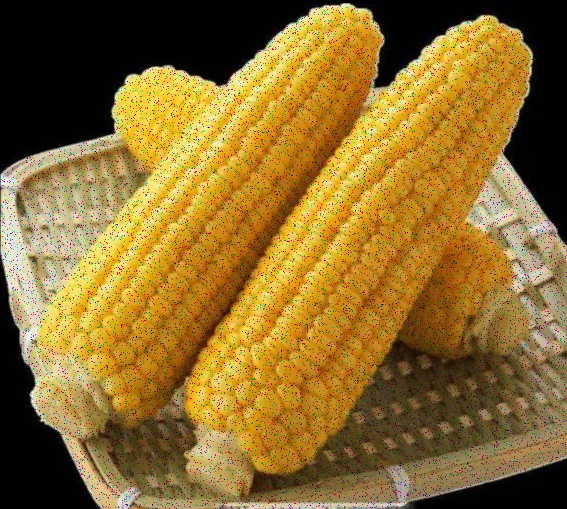corn: (29, 4, 382, 421), (219, 18, 518, 481), (109, 64, 516, 326)
